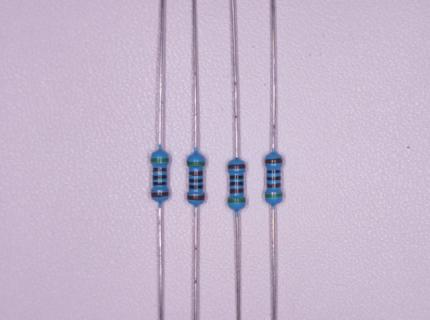Black band: (189, 184, 204, 190), (189, 178, 204, 183), (229, 175, 244, 180), (267, 176, 281, 181), (229, 182, 244, 186), (266, 170, 281, 174), (153, 175, 167, 179), (153, 182, 167, 186)
Brown band: (265, 158, 283, 164), (187, 195, 205, 201), (151, 192, 169, 198), (229, 188, 244, 193), (152, 167, 167, 172), (228, 165, 246, 169), (189, 171, 203, 176), (267, 183, 281, 187)
Green band: (150, 158, 169, 163), (186, 161, 205, 166), (228, 198, 246, 203), (265, 193, 283, 198)
